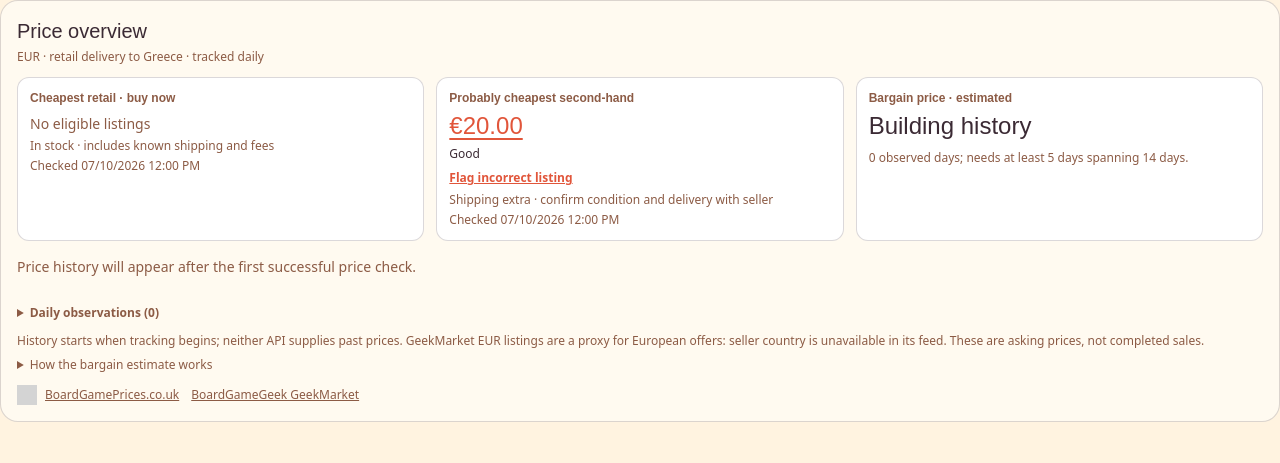
Test case: Game price overview › keeps the listing visible and allows retrying when a report fails
Step 1. Click the button "Flag incorrect listing" → (511, 178), box [449,170,572,186]
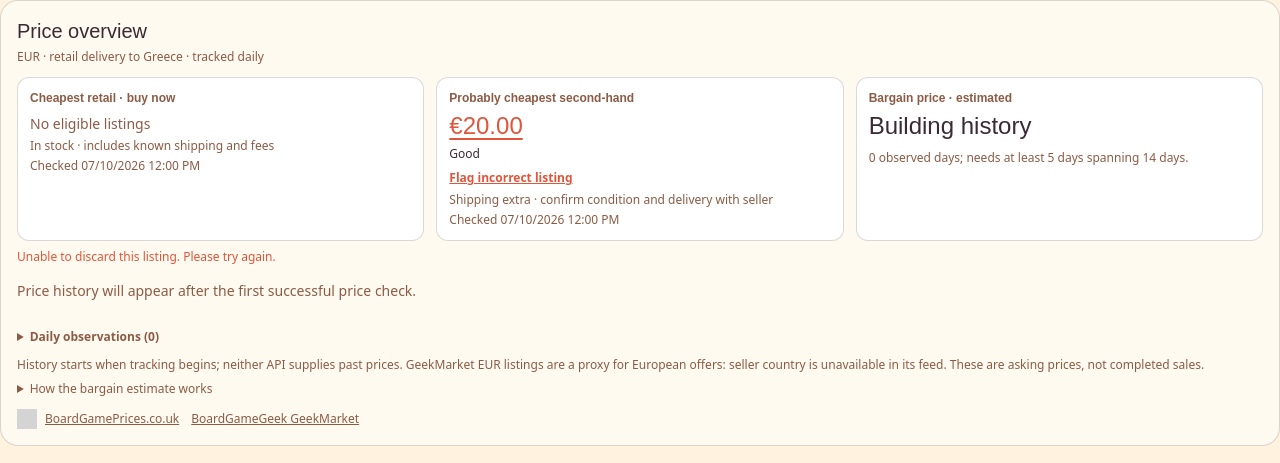
Expected: the link "€20.00" is shown, [449,110,523,142]
Result: the message "Unable to discard this listing. Please try again." is shown at [17,248,276,265]
Step 2. Click the button "Flag incorrect listing" → (511, 178), box [449,170,572,186]
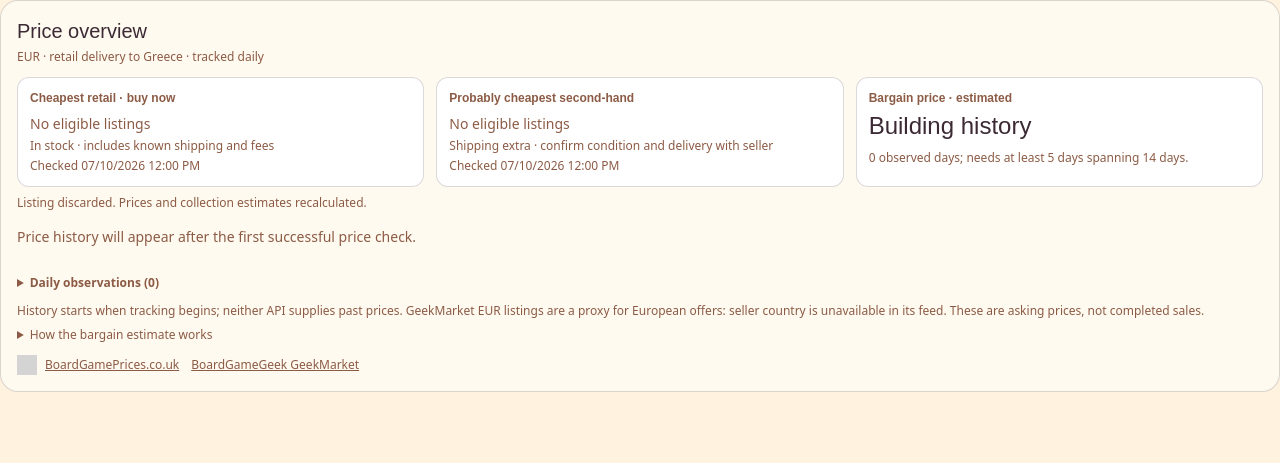
Result: the text "Listing discarded. Prices and collection estimates recalculated." is shown at [17,194,367,211]
Result: the link "€20.00" is gone
